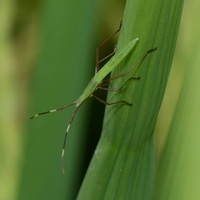insect: (29, 20, 155, 173)
